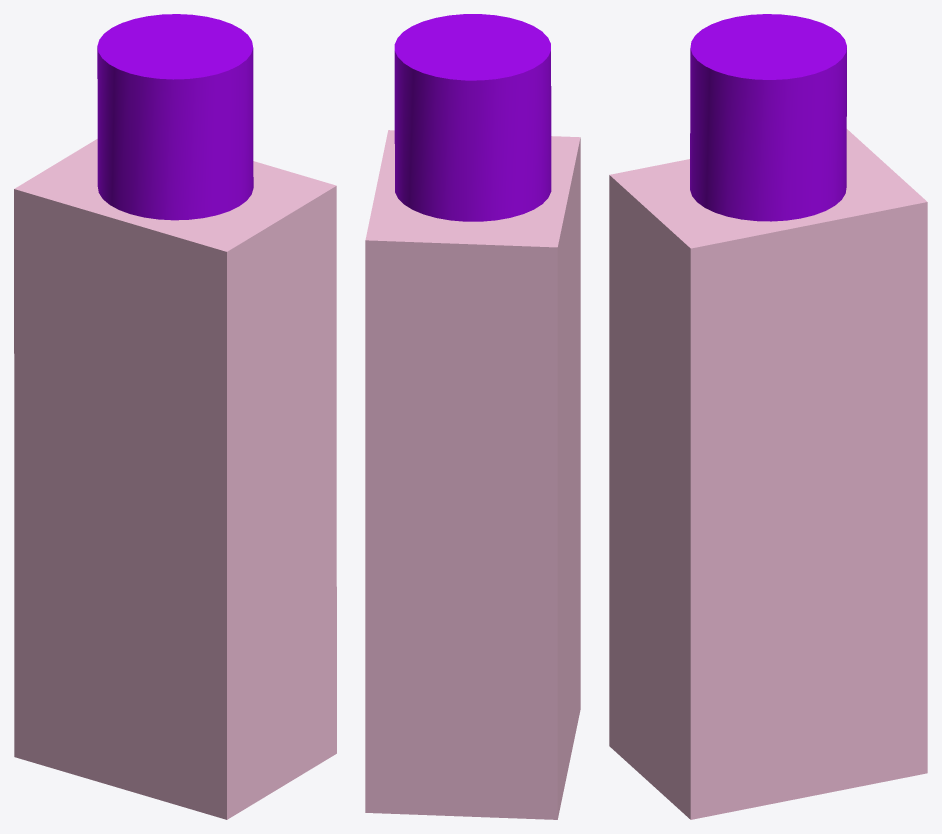
The picture shows the model from 3 angles, left to right: view 1: azimuth 30°, elevation 25°; view 2: azimuth 150°, elevation 25°; view 3: azimuth 270°, elevation 25°; orthographic projection.
Parts seen in each view (by area): view 1: object_col; view 2: object_col; view 3: object_col.
Boxes of the visible parts, left/top/right/bottom form: object_col: left=14, top=14, right=336, bottom=819; object_col: left=365, top=14, right=580, bottom=819; object_col: left=609, top=14, right=927, bottom=819.
Bounding box in the file's own units: 0.0381 × 0.0426 × 0.1053.
